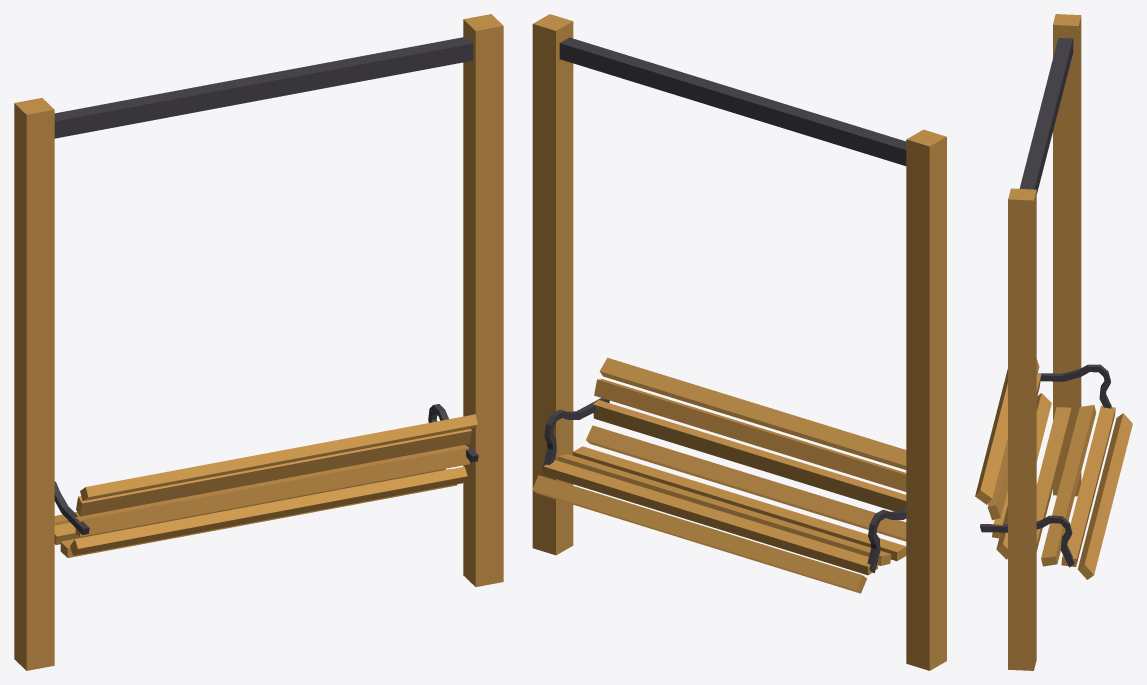
3 views of the same model, side by side, from view 1: azimuth 30°, elevation 25°; view 2: azimuth 150°, elevation 25°; view 3: azimuth 270°, elevation 25° (orthographic). The views are drawn at different scales.
Visible parts, largest first — view 1: SwingBench; view 2: SwingBench; view 3: SwingBench.
Part boxes in pixels (x1,y1,x2,y2): SwingBench: (14,14,503,670); SwingBench: (532,14,946,670); SwingBench: (975,14,1132,670).
Size of the model in its own units: 213 by 76.08 by 250.
